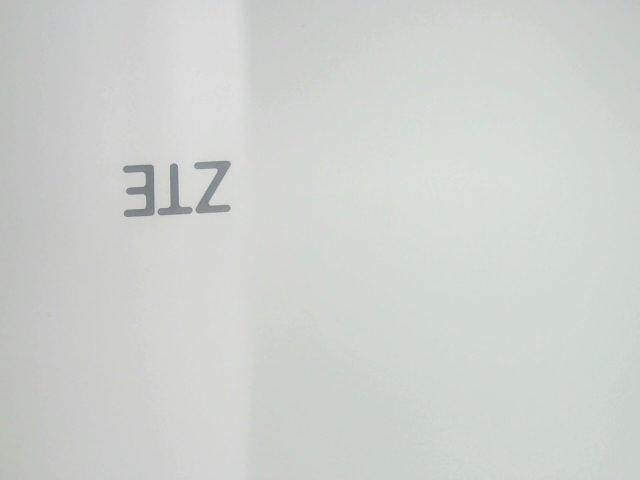AN_ZTE: (113, 154, 236, 218)
